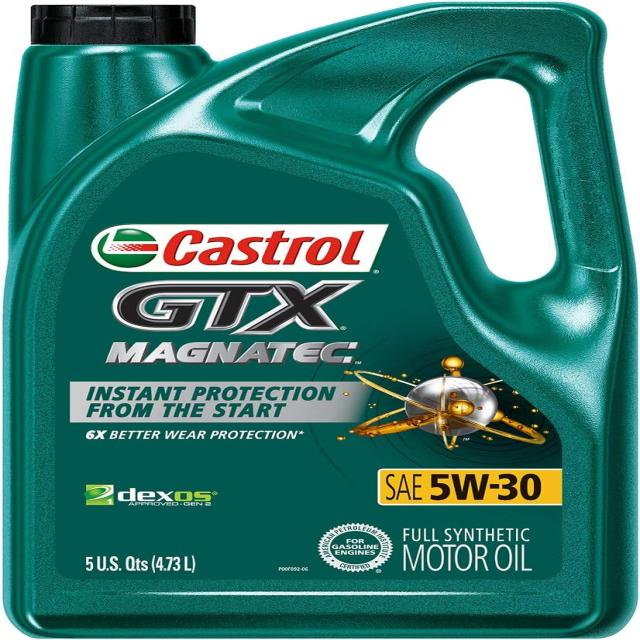motor_oil: (2, 0, 622, 640)
